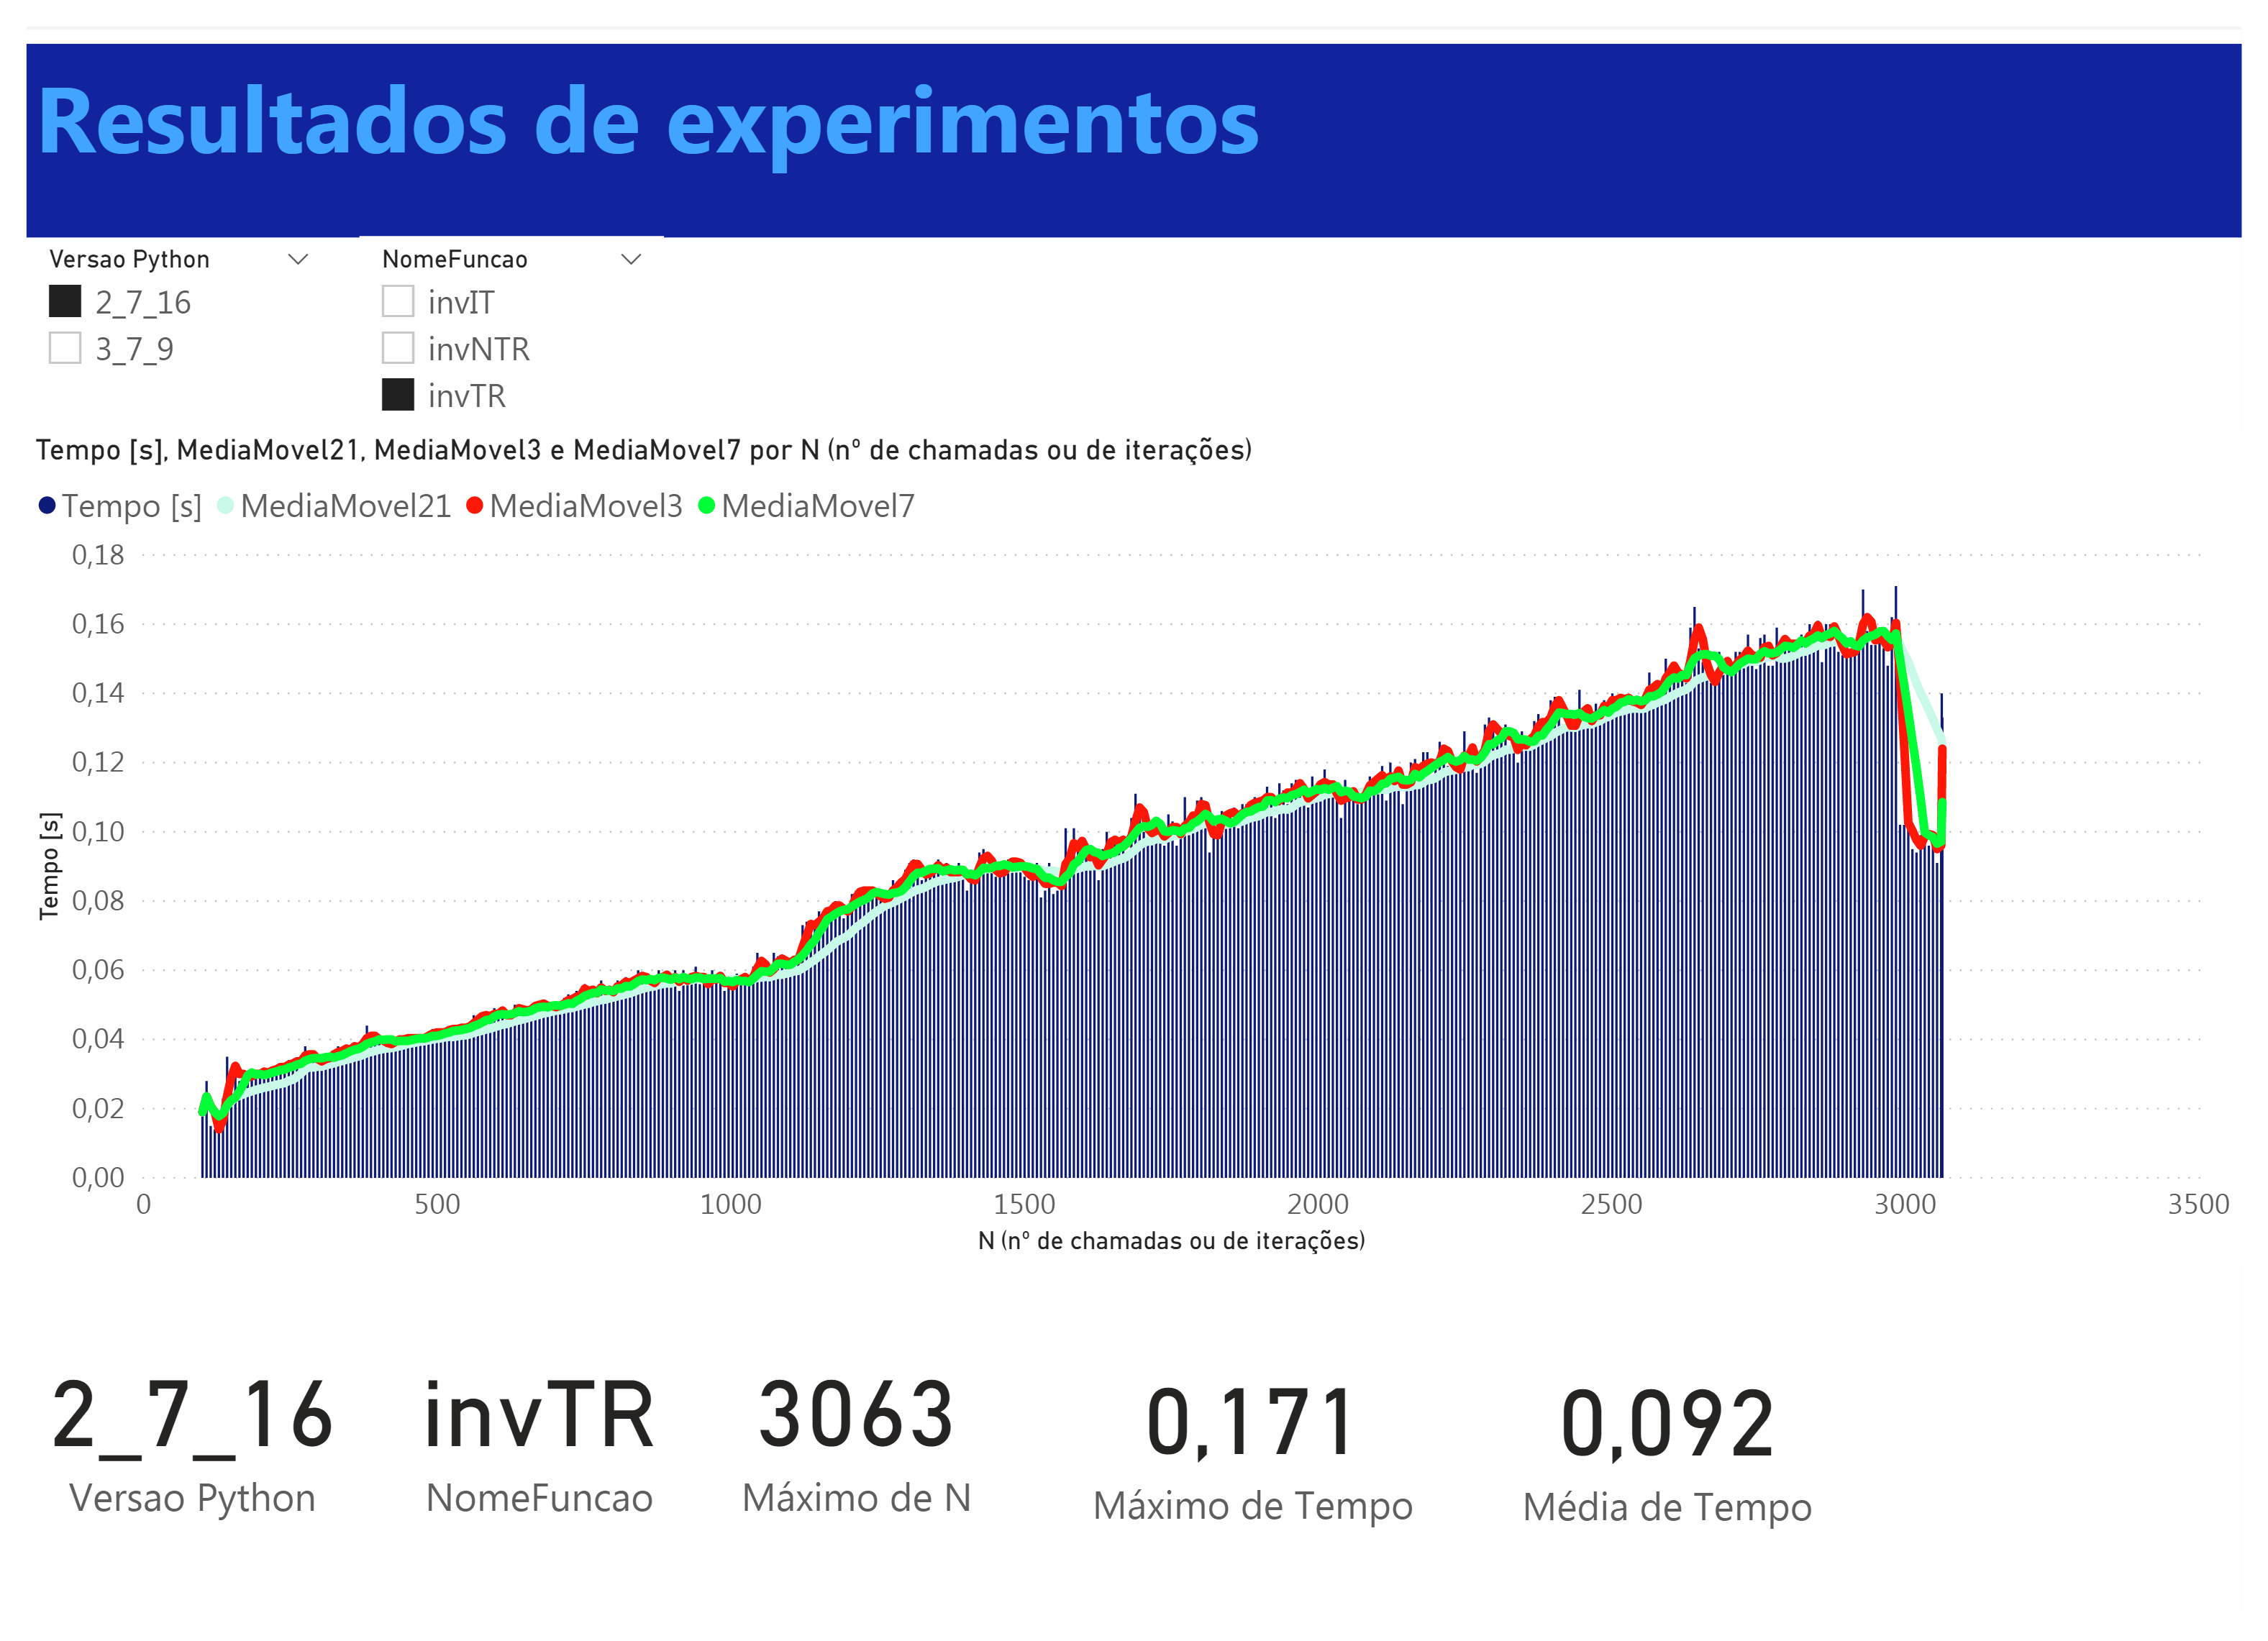

The page's visual inventory and layout, read from the dashboard file:
{"tool":"powerbi","page":{"name":"Inverte string","canvas":[1280,900],"ordinal":2},"visuals":[{"type":"card","fields":{"Values":["Max(Tabela1.Tempo)"]},"box":[600,708,216,192],"z":0},{"type":"card","fields":{"Values":["Min(Tabela1.NomeFuncao)"]},"box":[192,704,208,192],"z":1000},{"type":"card","fields":{"Values":["Max(Tabela1.N)"]},"box":[400,704,160,192],"z":2000},{"type":"card","fields":{"Values":["Avg(Tabela1.Tempo)"]},"box":[840,720,216,168],"z":3000},{"type":"slicer","fields":{"Values":["Tabela1.Versao Python"]},"box":[0,112,176,112],"z":4000},{"type":"card","fields":{"Values":["Min(Tabela1.Versao Python)"]},"box":[0,704,192,192],"z":5000},{"type":"textbox","box":[0,0,1280,112],"z":6000},{"type":"slicer","fields":{"Values":["Tabela1.NomeFuncao"]},"box":[192,112,176,112],"z":7000},{"type":"lineClusteredColumnComboChart","fields":{"Y":["Sum(Tabela1.Tempo)"],"Category":["Tabela1.N"],"Y2":["Tabela1.MediaMovel21","Tabela1.MediaMovel3","Tabela1.MediaMovel7"]},"box":[0,224,1280,480],"z":8000}]}

Visuals, with their boxes in screenshot pixels (x1, y1, x2, y2), scaled from the page's 1280x900 canvas onto the 2268x1641 screenshot:
card - Max(Tabela1.Tempo): [1063, 1291, 1446, 1640]
card - Min(Tabela1.NomeFuncao): [340, 1284, 709, 1634]
card - Max(Tabela1.N): [709, 1284, 992, 1634]
card - Avg(Tabela1.Tempo): [1488, 1313, 1871, 1619]
slicer - Tabela1.Versao Python: [0, 204, 312, 408]
card - Min(Tabela1.Versao Python): [0, 1284, 340, 1634]
textbox: [0, 0, 2267, 204]
slicer - Tabela1.NomeFuncao: [340, 204, 652, 408]
lineClusteredColumnComboChart - Sum(Tabela1.Tempo) x Tabela1.N: [0, 408, 2267, 1284]
